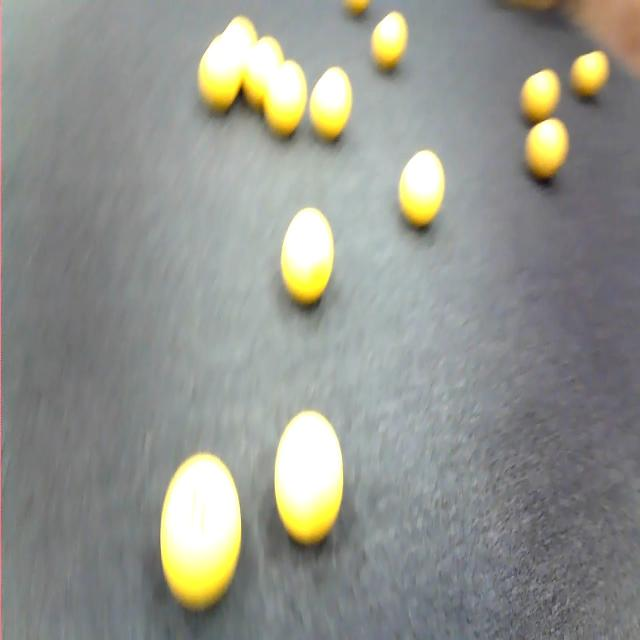fuel: (146, 434, 254, 610), (264, 405, 352, 561), (277, 191, 346, 320), (386, 140, 451, 240), (259, 47, 314, 150), (189, 27, 245, 121), (518, 109, 576, 198), (309, 61, 360, 151), (567, 34, 617, 116), (216, 1, 271, 74), (365, 12, 415, 85), (243, 30, 286, 114), (513, 62, 563, 131), (336, 0, 374, 19)
